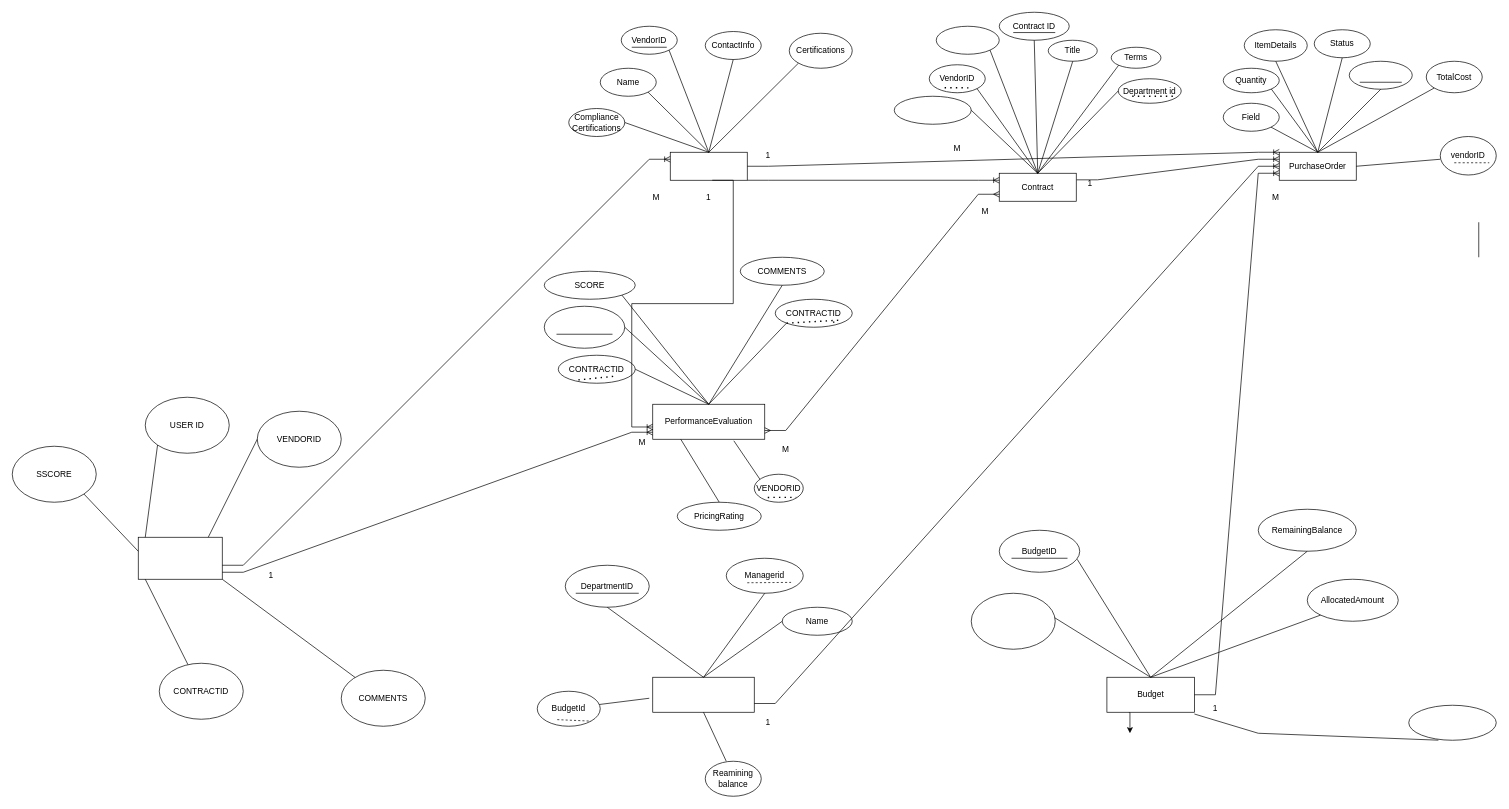
This 1509x809 diagram has some shape labels left out. Each missing label, with the centre of its shape:
"Department" goes at pixel 703 694.
"EvaluationID" goes at pixel 584 327.
"ExpirationDate" goes at pixel 967 40.
"FiscalYear" goes at pixel 1452 722.
"PID" goes at pixel 1380 75.
"SpecialClauses" goes at pixel 932 110.
"TOTALAMOUNT" goes at pixel 1013 621.
"USER" goes at pixel 180 558.
"Vendor" goes at pixel 708 166.
